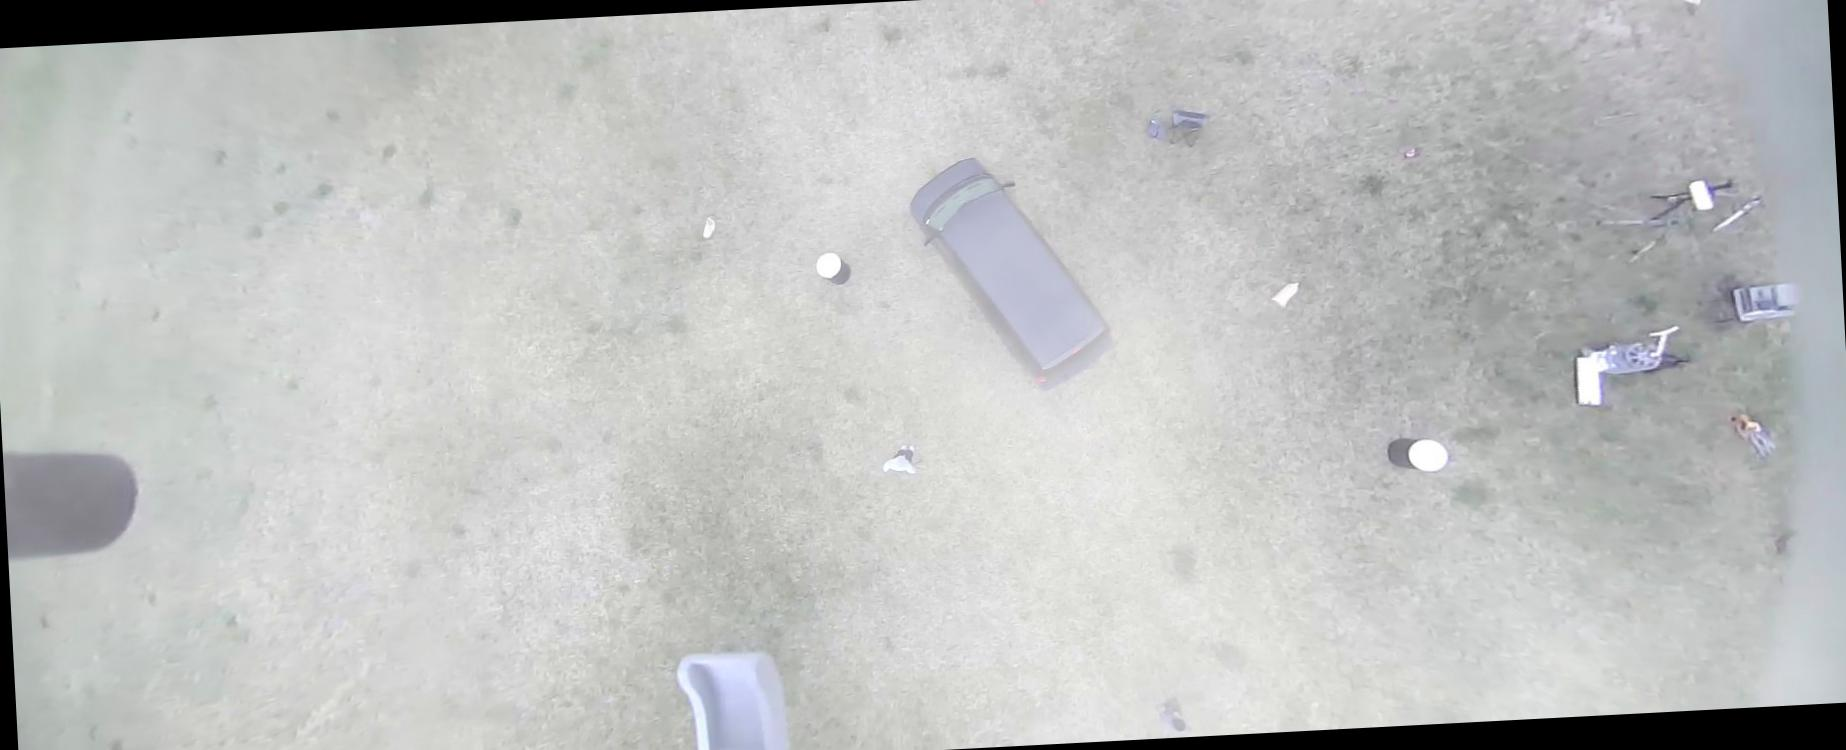vehicle: (908, 150, 1115, 398)
